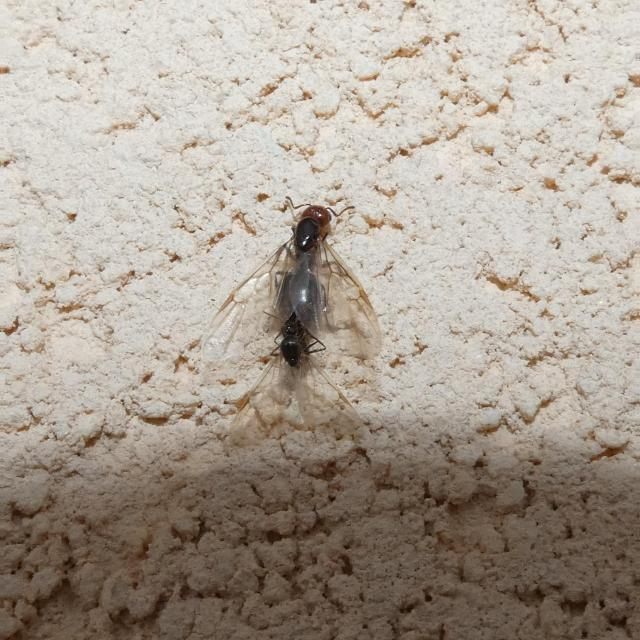Crematogaster: (230, 324, 356, 448), (252, 192, 358, 322)
